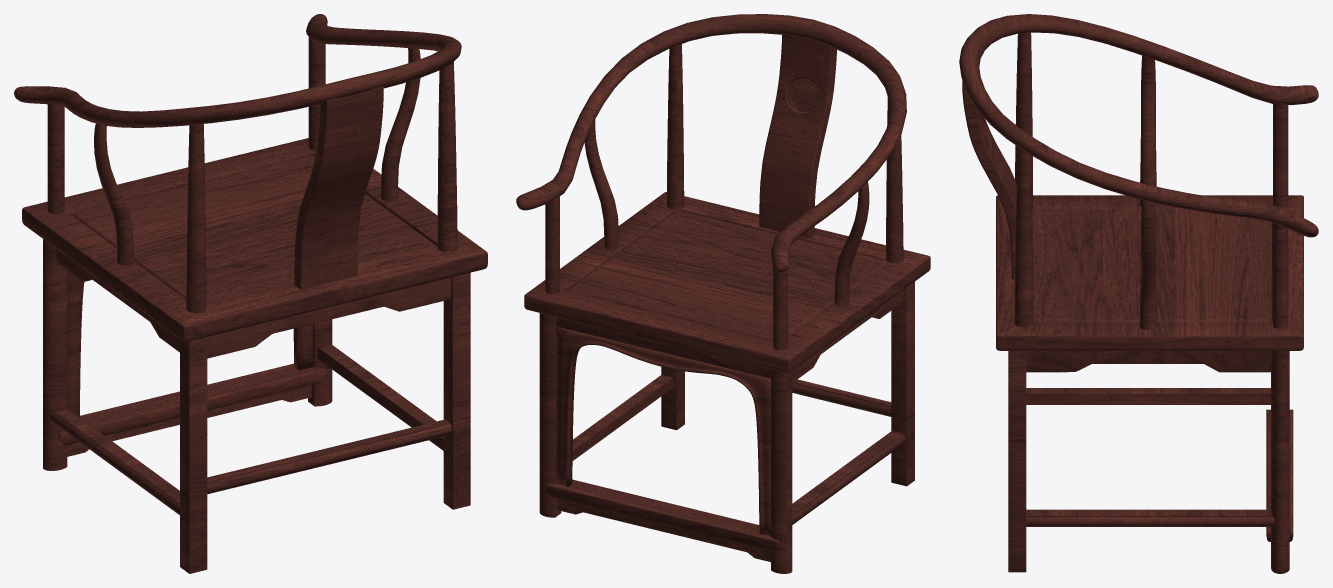
3 views of the same model, side by side, from view 1: azimuth 30°, elevation 25°; view 2: azimuth 150°, elevation 25°; view 3: azimuth 270°, elevation 25° (orthographic). The views are drawn at different scales.
Visible parts, largest first — view 1: MD-明-茶椅3; view 2: MD-明-茶椅3; view 3: MD-明-茶椅3.
Boxes of the visible parts, x1,y1,x2,y2 form: MD-明-茶椅3: (14, 14, 487, 573); MD-明-茶椅3: (516, 14, 930, 573); MD-明-茶椅3: (959, 14, 1318, 573).
Bounding box in the file's own units: 0.5872 × 0.5826 × 0.8083.
